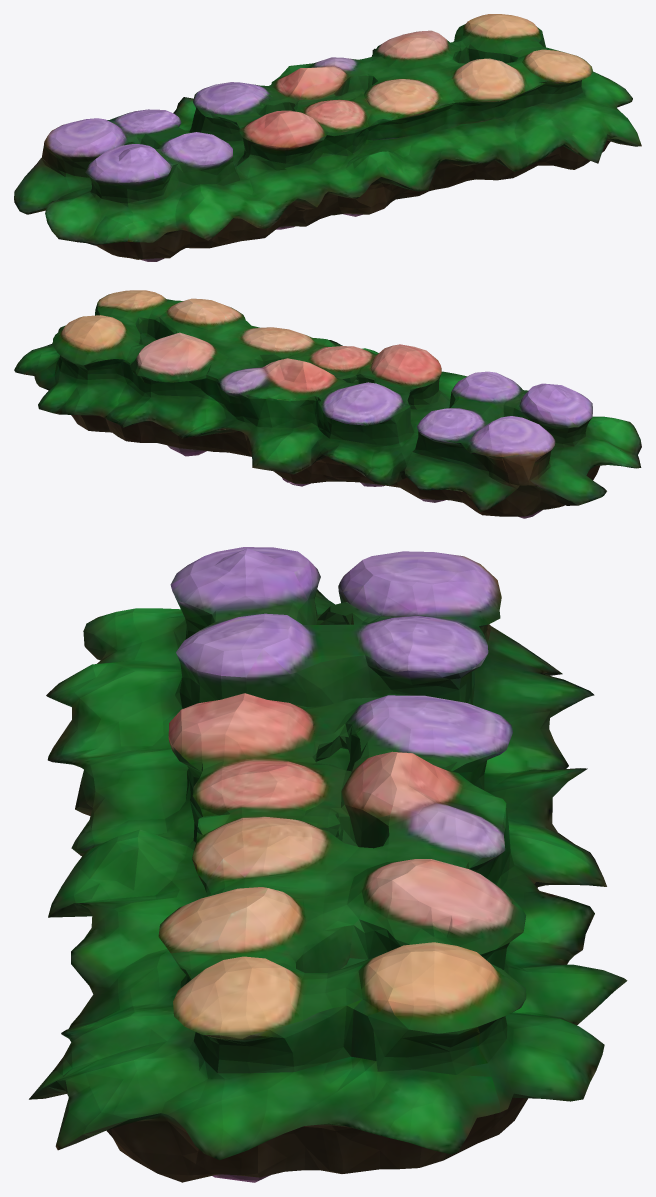
File: flowers_bed.glb
The picture shows the model from 3 angles, top to bottom: view 1: azimuth 30°, elevation 25°; view 2: azimuth 150°, elevation 25°; view 3: azimuth 270°, elevation 25°; orthographic projection. The views are drawn at different scales.
Visible parts, largest first — view 1: world; view 2: world; view 3: world.
Boxes of the visible parts, left/top/right/bottom form: world: left=14, top=14, right=641, bottom=261; world: left=14, top=290, right=641, bottom=518; world: left=29, top=547, right=627, bottom=1182.
Size of the model in its own units: 0.986 by 0.1879 by 0.4447.
1 material, 1 textured.
